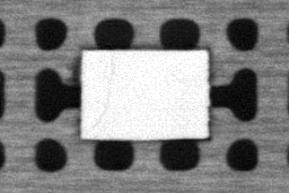DIE_CRACK: (88, 60, 115, 131)
